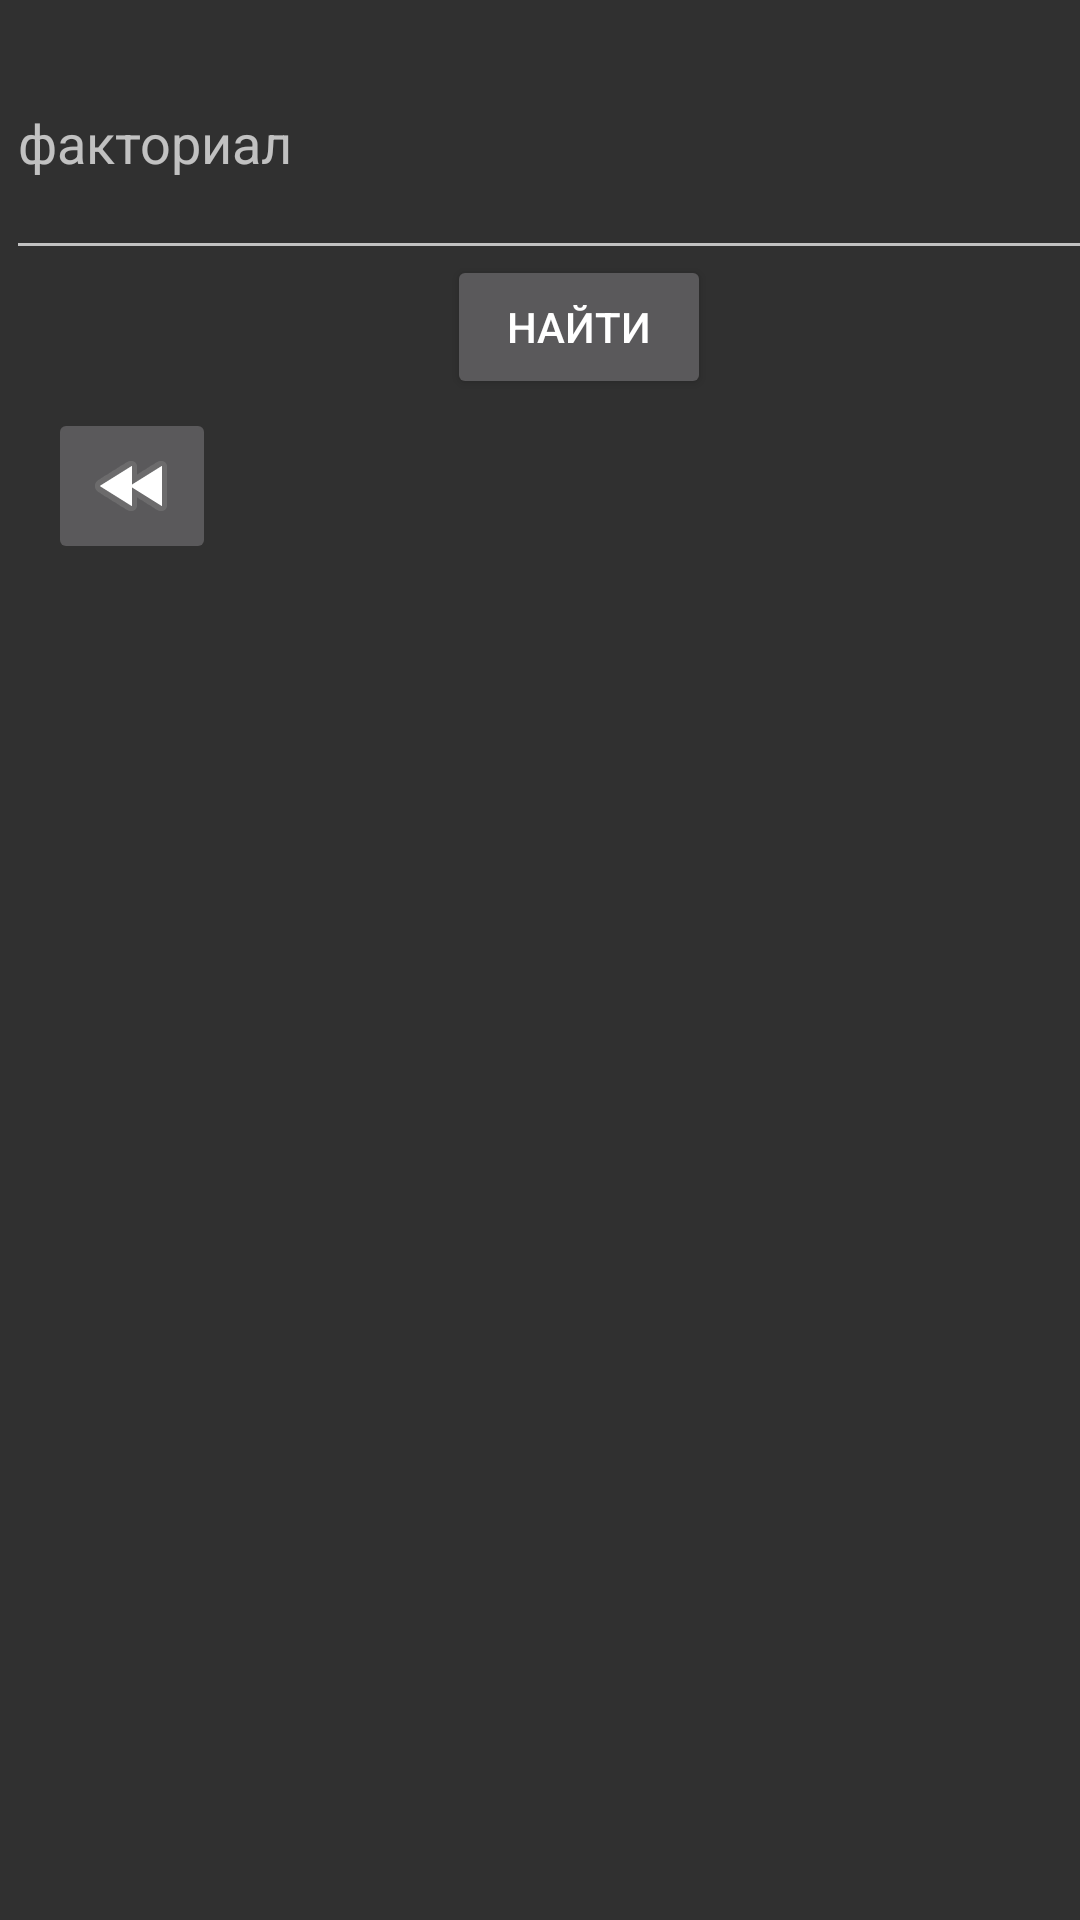

Locate icon controls on the screen. Image size 1080 × 1920, boxes as box=[x1, y1, x2, y2].
rew: box=[60, 426, 204, 546]
